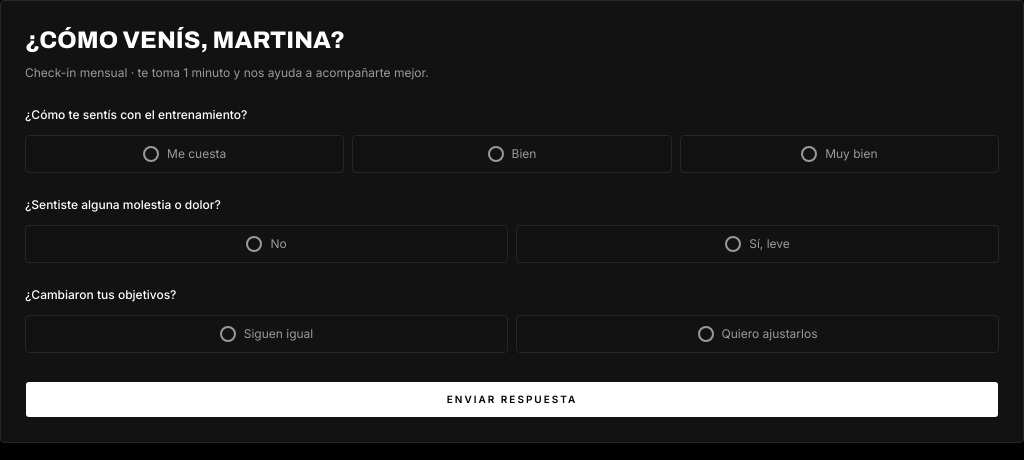
CheckinForm › keeps the button disabled once the answers were sent
Click the radio button labelled "Bien".
click(496, 154)  # box [488,146,504,162]
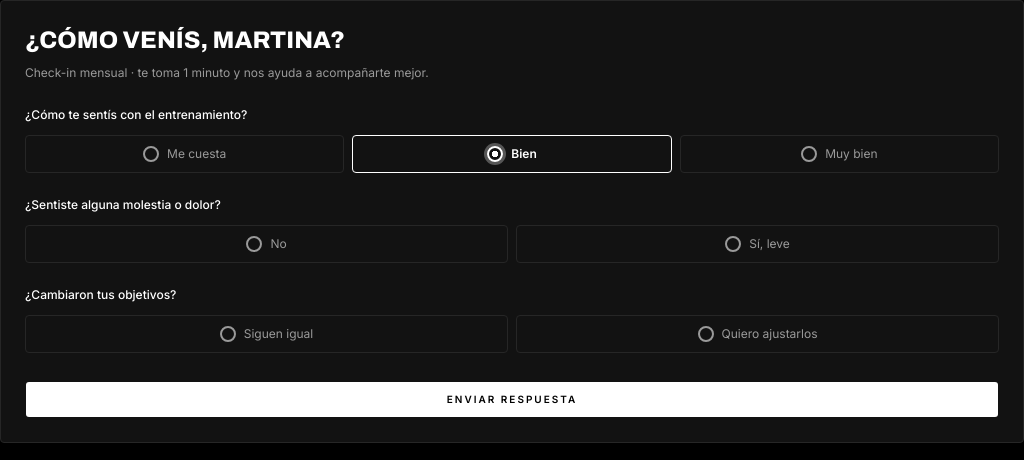
Click the radio button labelled "No".
click(254, 244)  # box [246,236,262,252]
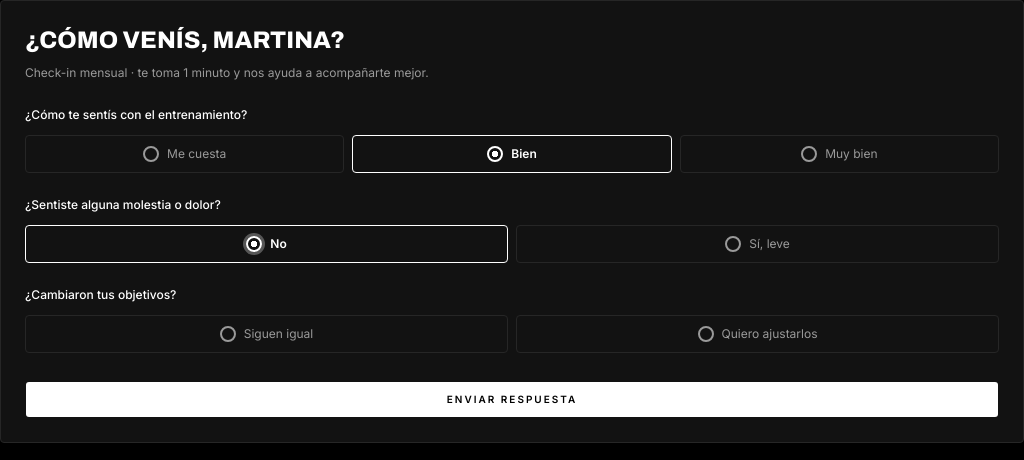
Click the radio button labelled "Siguen igual".
click(228, 334)  # box [220,326,236,342]
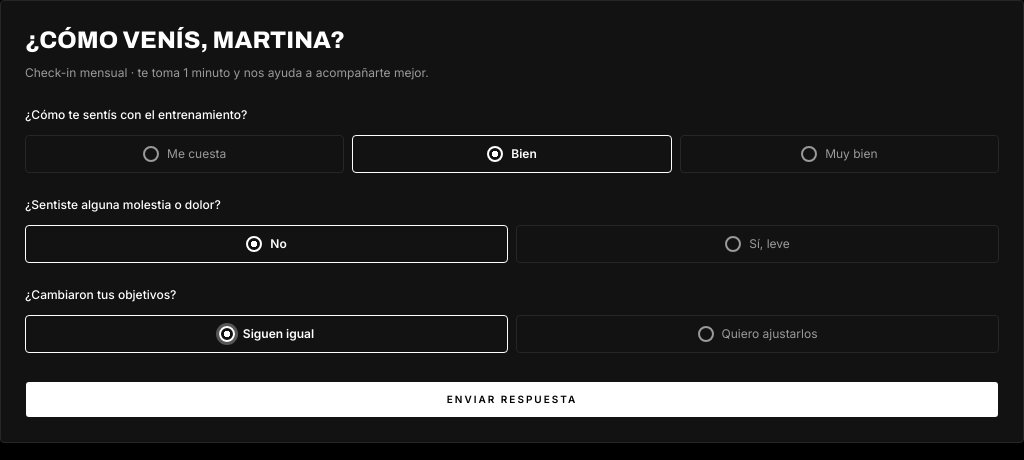
Click the button "Enviar respuesta".
click(512, 399)  # box [25,380,999,418]
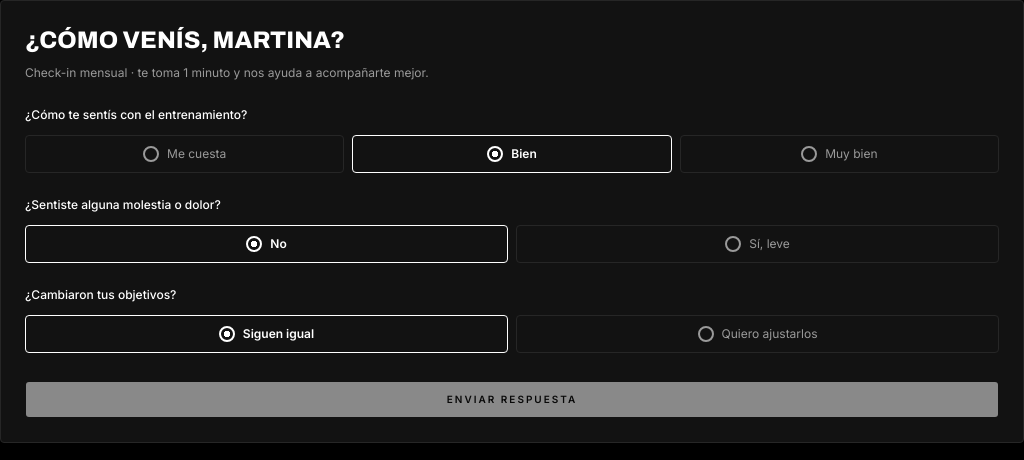
Expected: the button "Enviar respuesta" is disabled, [25,380,999,418]
